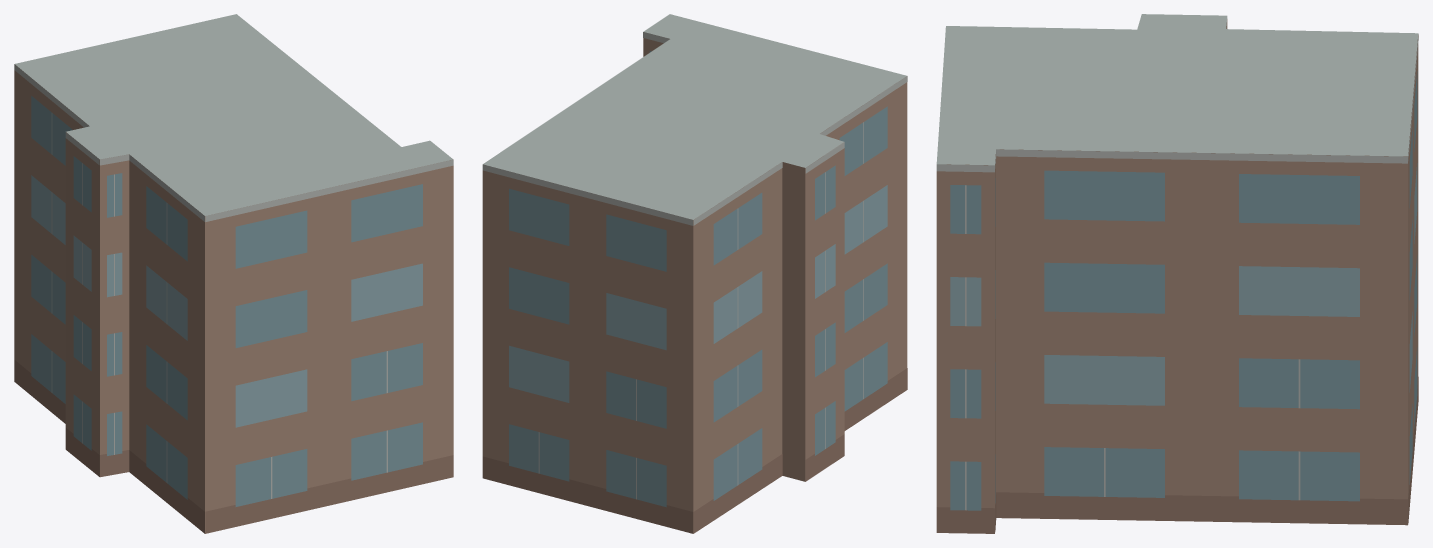
File: survey-upis-32707625.glb
The picture shows the model from 3 angles, left to right: view 1: azimuth 30°, elevation 25°; view 2: azimuth 150°, elevation 25°; view 3: azimuth 270°, elevation 25°; orthographic projection. The views are drawn at different scales.
Parts seen in each view (by area): view 1: survey-upis-32707625.tmp; view 2: survey-upis-32707625.tmp; view 3: survey-upis-32707625.tmp.
Part boxes in pixels (x1,y1,x2,y2): survey-upis-32707625.tmp: (14, 14, 453, 533); survey-upis-32707625.tmp: (482, 14, 907, 533); survey-upis-32707625.tmp: (936, 14, 1418, 533).
Size of the model in its own units: 11.1 by 12.6 by 14.93.
